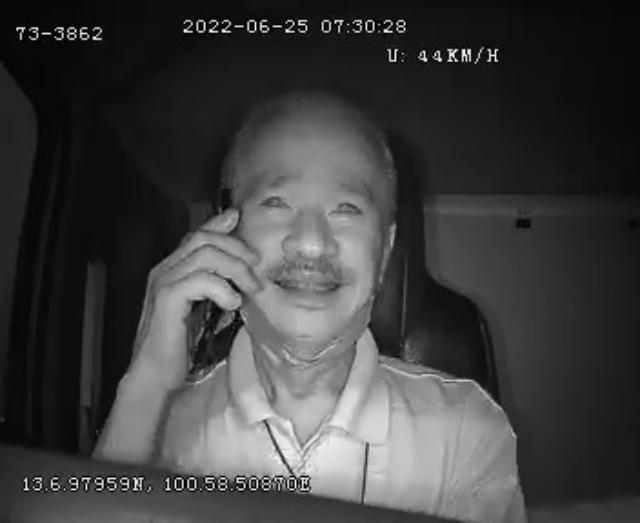PhoneUse: (187, 188, 237, 380)
SafeDriving: (321, 184, 372, 227), (252, 180, 298, 218)
